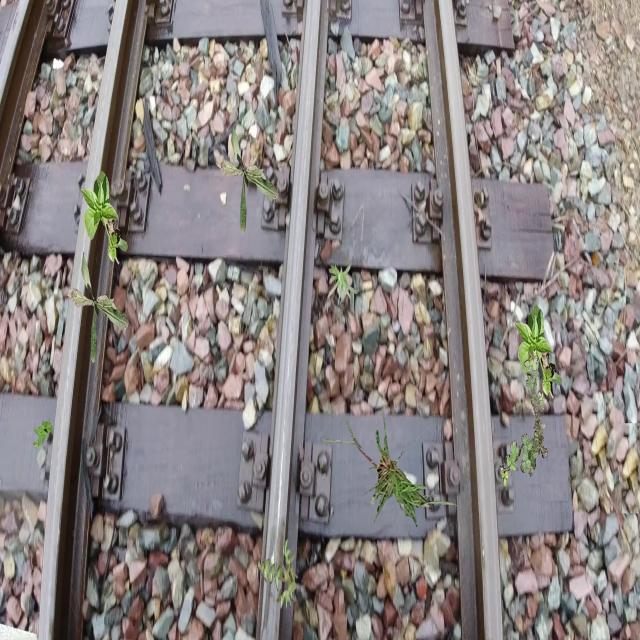Plant: (322, 408, 466, 528), (216, 122, 280, 234), (66, 252, 130, 364), (500, 349, 548, 487), (515, 304, 563, 399), (80, 170, 128, 265), (257, 538, 298, 610), (327, 262, 360, 308), (33, 417, 52, 450)
